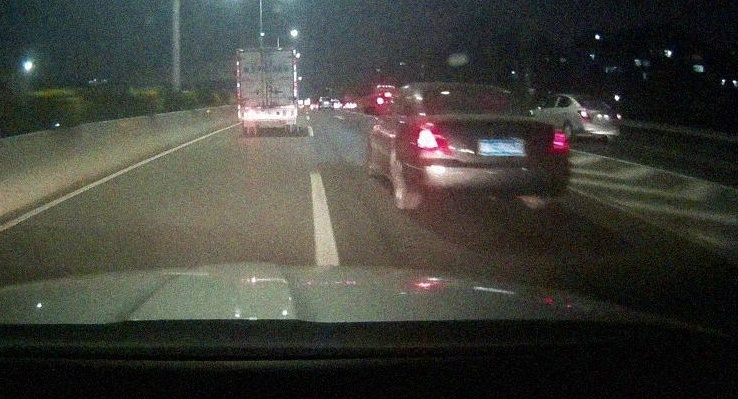L_light: (414, 122, 451, 153), (577, 110, 591, 121), (244, 110, 258, 117)
R_light: (545, 126, 567, 153), (280, 109, 294, 116), (614, 112, 622, 121)
T_light: (460, 87, 479, 91), (260, 49, 273, 52), (586, 96, 597, 99)
night-left: (413, 84, 570, 209)
night-no: (235, 47, 298, 135), (572, 94, 622, 142)
